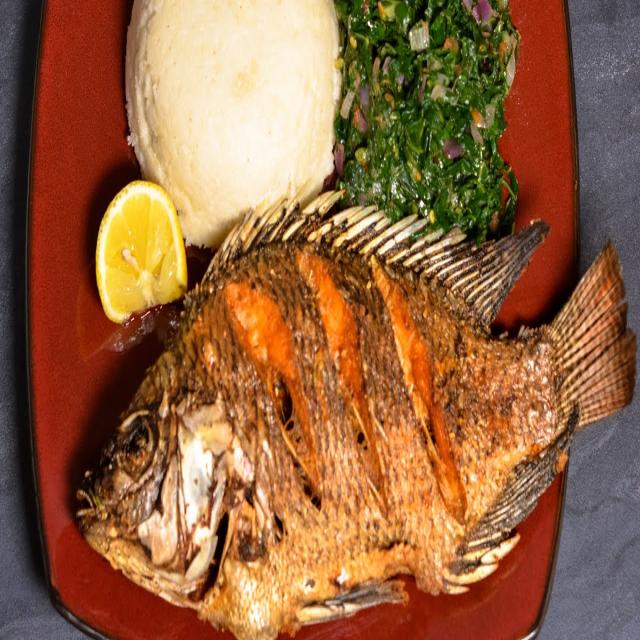Peixe: (74, 190, 636, 638)
